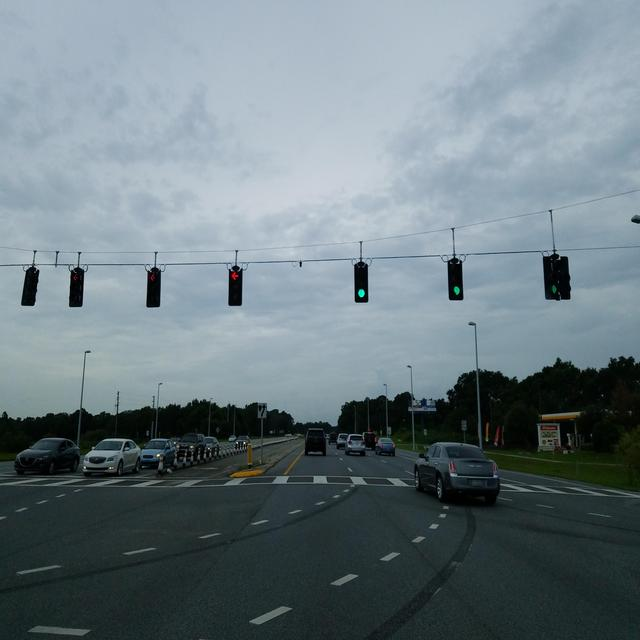Barrier: (157, 435, 298, 471)
Billboard: (536, 423, 560, 451), (407, 400, 436, 414)
Car: (14, 433, 249, 476), (414, 442, 499, 504), (304, 428, 395, 456)
Vegetation: (478, 354, 639, 481), (387, 368, 478, 443), (0, 405, 115, 450)
